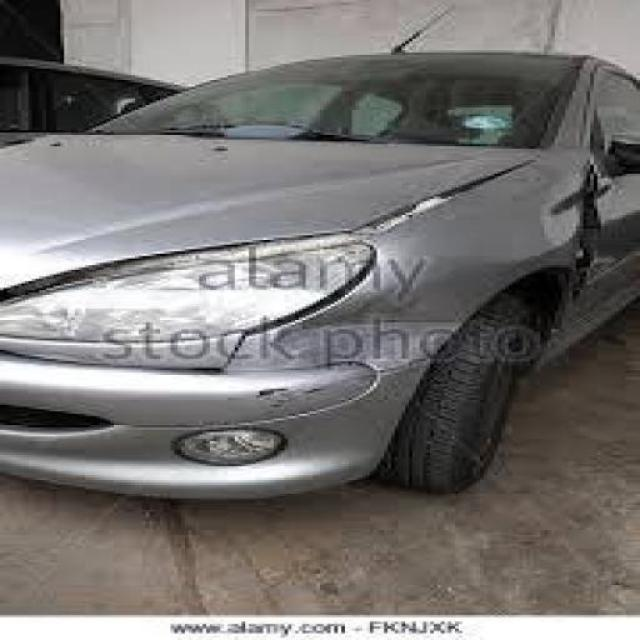crush: (548, 159, 619, 306)
dent: (246, 285, 467, 368)
misalignment: (7, 157, 538, 314)
scratch: (245, 374, 393, 419)
